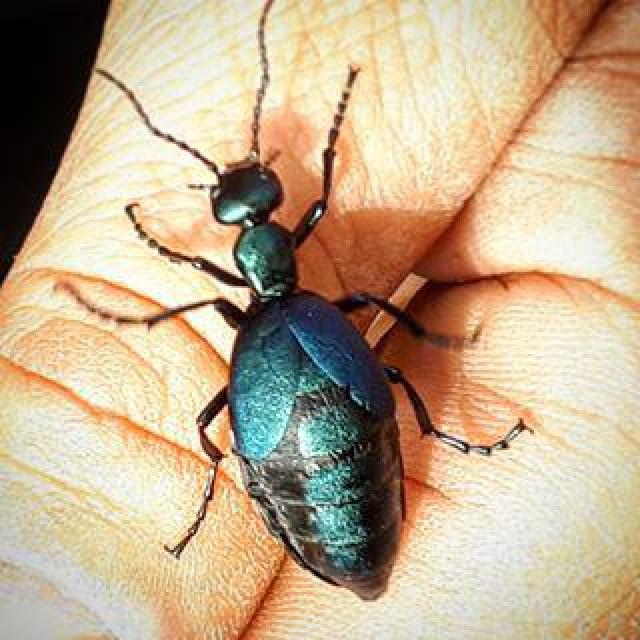BlisterBeetle-Adult-: (64, 29, 540, 600)
